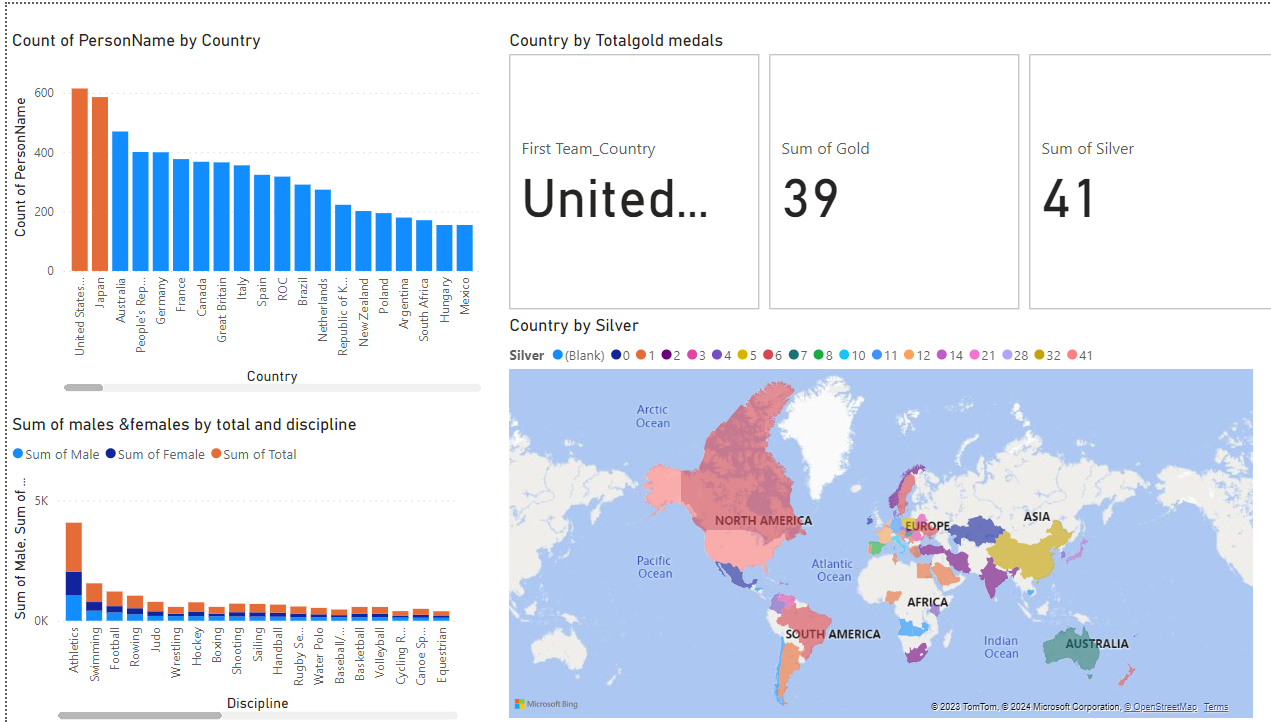

What the dashboard file says about the page in this screenshot:
{"tool":"powerbi","page":{"name":"Page 1","canvas":[1280,720],"ordinal":0},"visuals":[{"type":"columnChart","fields":{"Category":["atheletes.Country"],"Y":["atheletes.PersonName"]},"box":[0,25.7,479.2,366.7],"z":0},{"type":"columnChart","title":"Sum of males &females by total and discipline","fields":{"Category":["Entriesgender.Discipline"],"Y":["Entriesgender.Male","Entriesgender.Female","Entriesgender.Total"]},"box":[0,409.5,456,310.5],"z":1000},{"type":"cardVisual","title":"Country by Totalgold medals","fields":{"Data":["Medals.Team_Country","Medals.Gold","Medals.Silver"]},"box":[497.5,25.7,782.3,284.8],"z":2000},{"type":"filledMap","title":"Country by Silver","fields":{"Series":["Medals.Silver"],"Category":["Coaches.Country"]},"box":[497.7,311.2,754.1,408.6],"z":3000}]}

Visuals, with their boxes in screenshot pixels (x1, y1, x2, y2), scaled from the page's 1280x720 canvas onto the 1271x722 screenshot:
columnChart - atheletes.Country x atheletes.PersonName: {"x1": 0, "y1": 26, "x2": 476, "y2": 393}
"Sum of males &females by total and discipline" columnChart: {"x1": 0, "y1": 411, "x2": 453, "y2": 721}
"Country by Totalgold medals" cardVisual: {"x1": 494, "y1": 26, "x2": 1270, "y2": 311}
"Country by Silver" filledMap: {"x1": 494, "y1": 312, "x2": 1243, "y2": 721}
